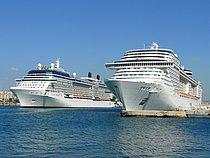Ship: (102, 40, 207, 122), (5, 54, 122, 113)
